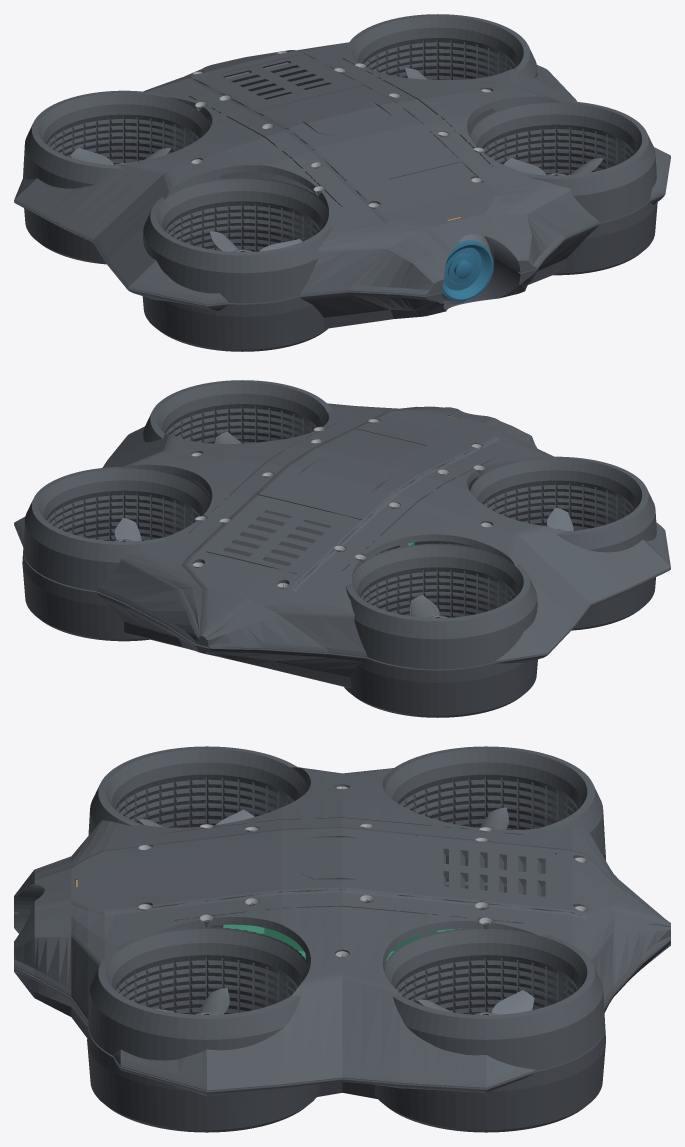
Rendered from sa1_vanguard.glb.
3 renders of one model, top to bottom at view 1: azimuth 30°, elevation 25°; view 2: azimuth 150°, elevation 25°; view 3: azimuth 270°, elevation 25°, orthographic. The views are drawn at different scales.
Visible parts, largest first — view 1: Main_Hull_Top, Main_Hull_Ventral, Primary_4K_Lens, Fasteners_Dorsal, Ducted_Propeller_R1, Ducted_Propeller_L1, Ducted_Propeller_L2; view 2: Main_Hull_Top, Main_Hull_Ventral, Fasteners_Dorsal, Ducted_Propeller_L2, Ducted_Propeller_R2; view 3: Main_Hull_Top, Main_Hull_Ventral, Fasteners_Dorsal, Ducted_Propeller_R2, AVIARS_Core_Thermal_Sink, Ducted_Propeller_R1.
Part boxes in pixels (x1,y1,x2,y2): Main_Hull_Top: (14,14,670,304); Main_Hull_Ventral: (14,64,670,351); Primary_4K_Lens: (441,240,493,301); Fasteners_Dorsal: (191,51,492,208); Ducted_Propeller_R1: (503,158,603,175); Ducted_Propeller_L1: (209,231,302,251); Ducted_Propeller_L2: (71,147,170,165); Main_Hull_Top: (14,380,670,669); Main_Hull_Ventral: (14,430,670,717); Fasteners_Dorsal: (191,419,492,588); Ducted_Propeller_L2: (410,595,447,617); Ducted_Propeller_R2: (114,517,141,541); Main_Hull_Top: (14,746,670,1090); Main_Hull_Ventral: (14,805,670,1132); Fasteners_Dorsal: (138,786,587,957); Ducted_Propeller_R2: (416,990,534,1014); AVIARS_Core_Thermal_Sink: (223,924,460,964); Ducted_Propeller_R1: (155,988,229,1014).
Size of the model in its own units: 180 by 42 by 160.
